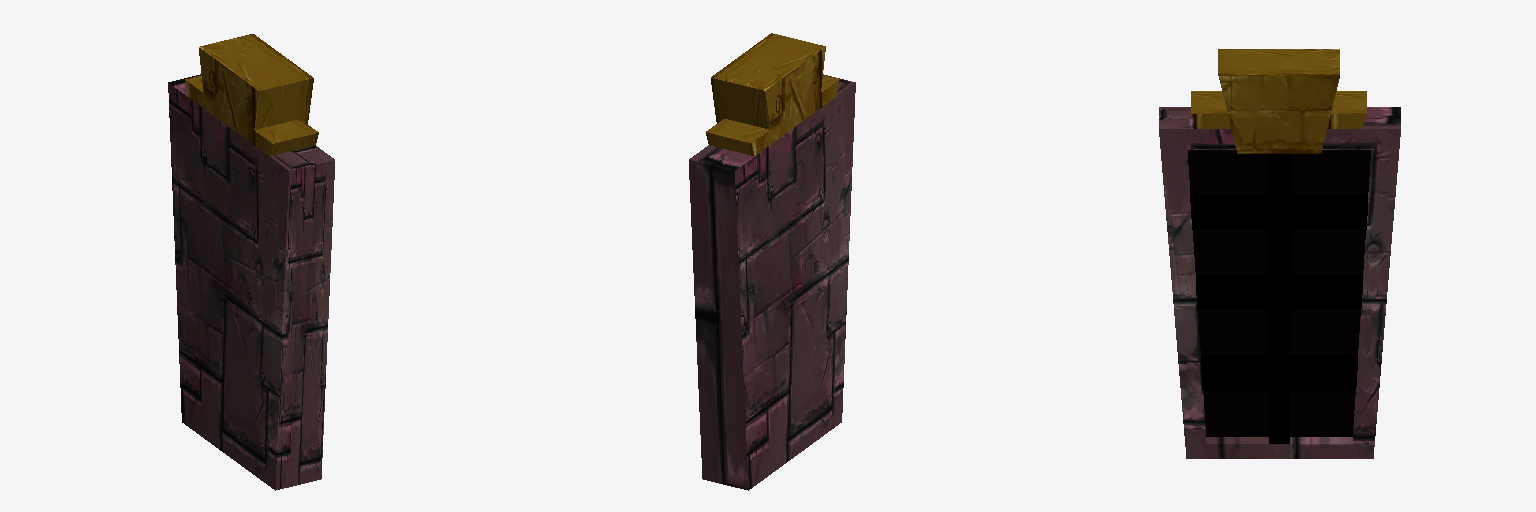
3 views of the same model, side by side, from view 1: azimuth 30°, elevation 25°; view 2: azimuth 150°, elevation 25°; view 3: azimuth 270°, elevation 25° (orthographic).
Parts seen in each view (by area): view 1: pCube1; view 2: pCube1; view 3: pCube1.
Part boxes in pixels (x1,y1,x2,y2): pCube1: (168, 34, 334, 490); pCube1: (689, 33, 855, 490); pCube1: (1159, 49, 1400, 458).
Bounding box in the file's own units: 1.19 × 8.02 × 4.54.
5 materials, 2 textured.